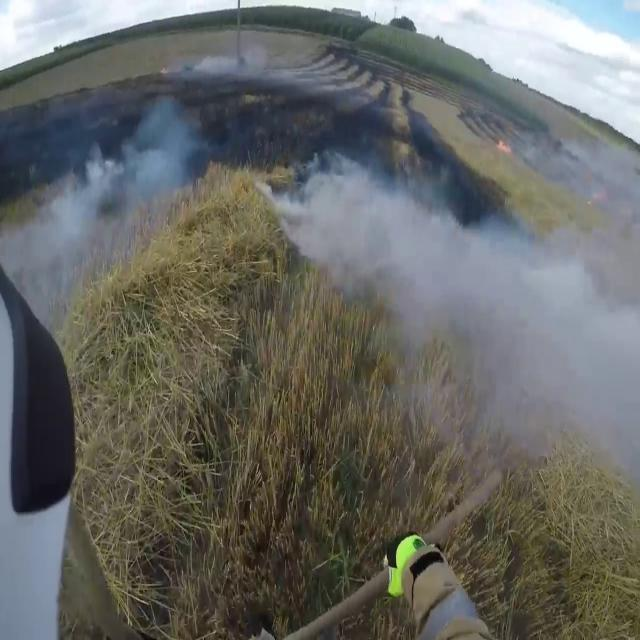Smoke: (290, 115, 640, 504), (28, 96, 208, 276)
